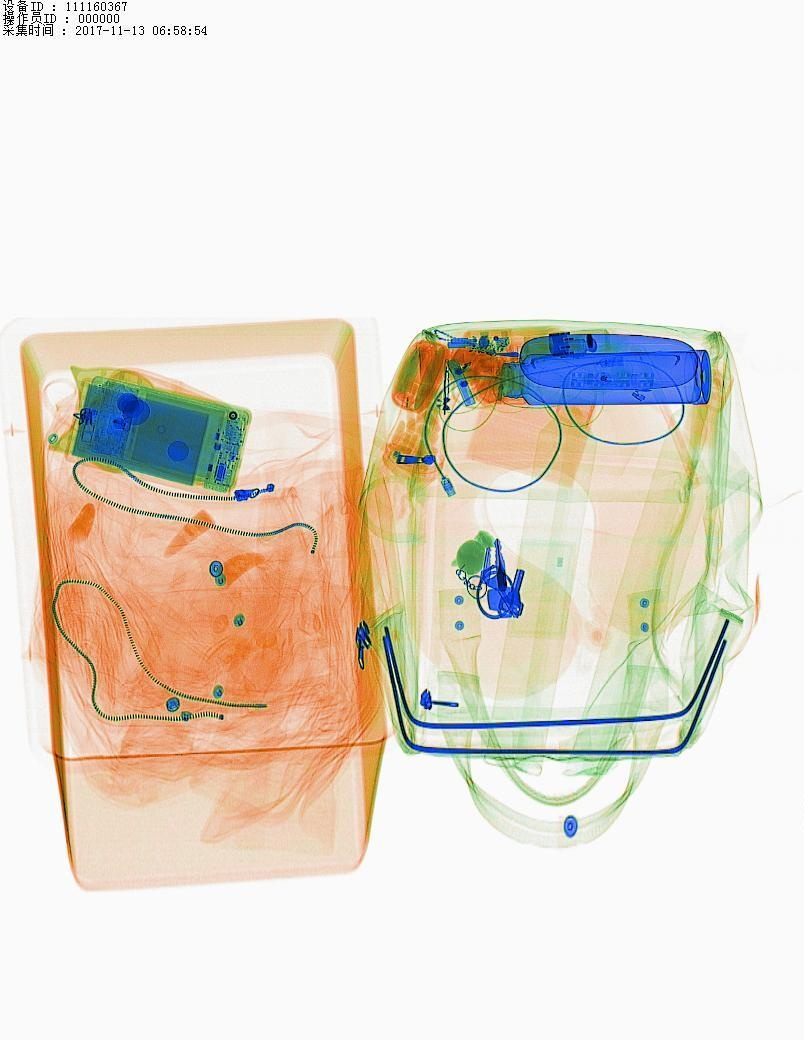coreless: (69, 386, 215, 487)
